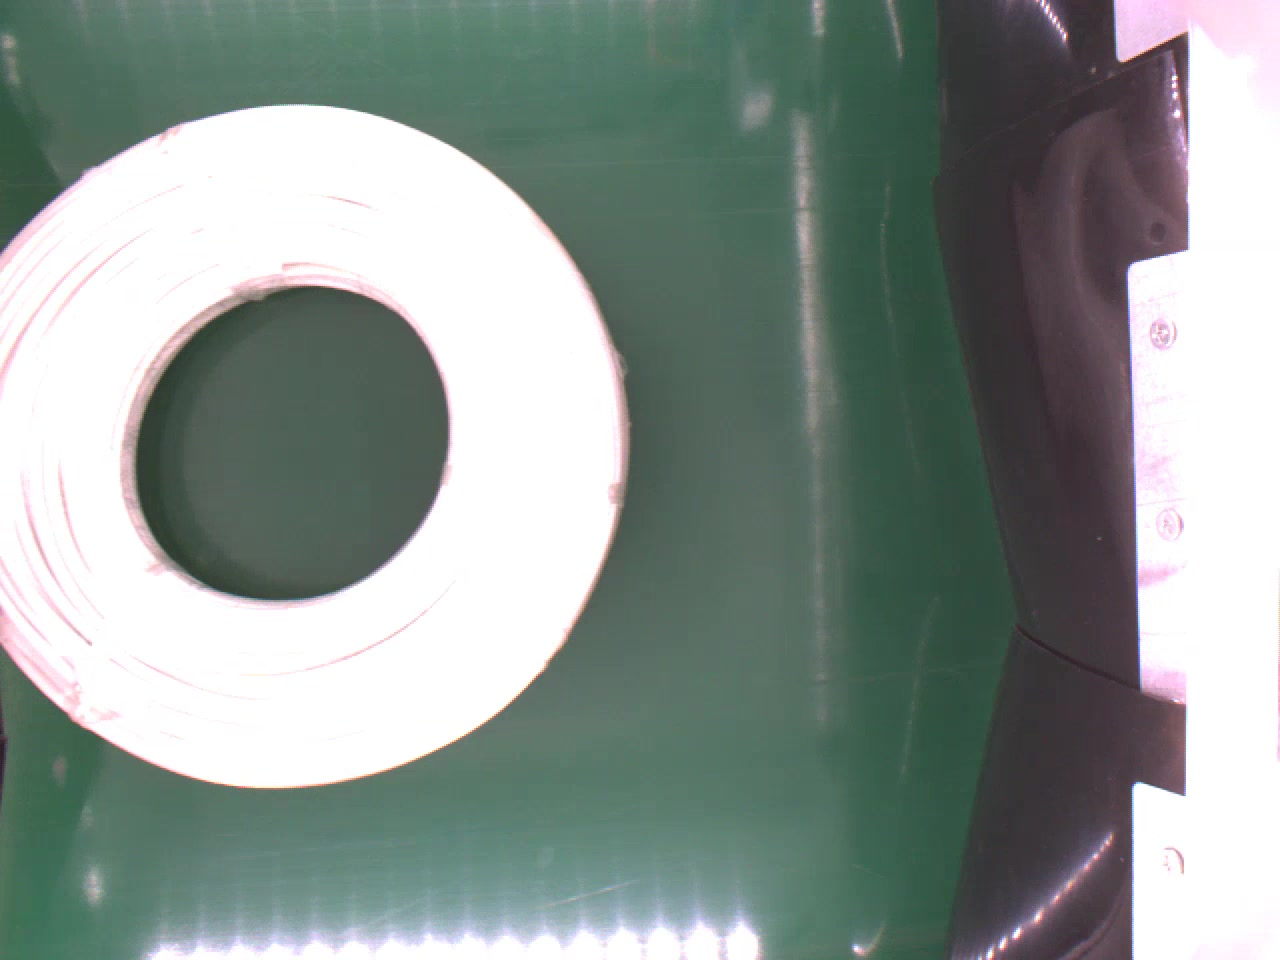white: (0, 105, 636, 792)
